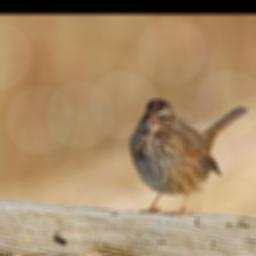Sparrow: (130, 96, 251, 215)
